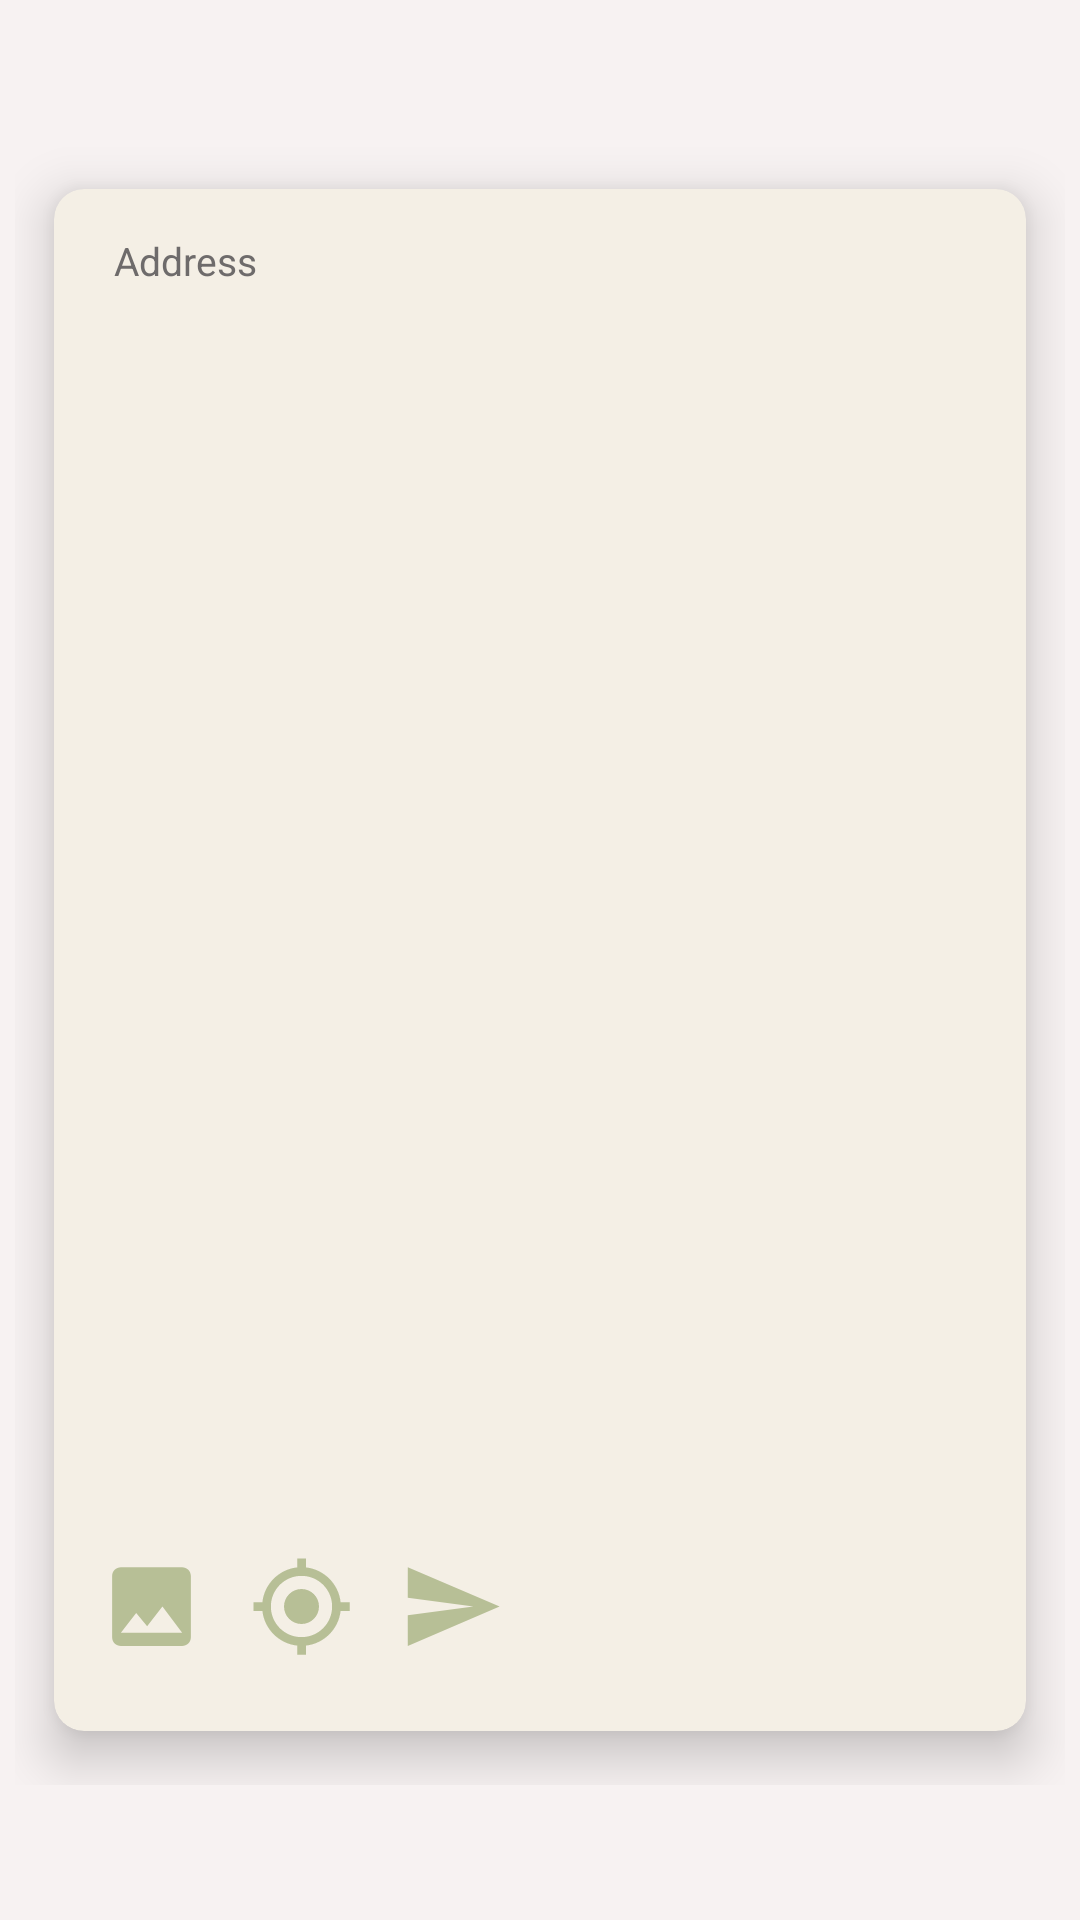

Icons on this 1080px x 1920px Android screen, each with the point to tap as (x=x, y=y):
location: (x=301, y=1606)
send: (x=453, y=1606)
